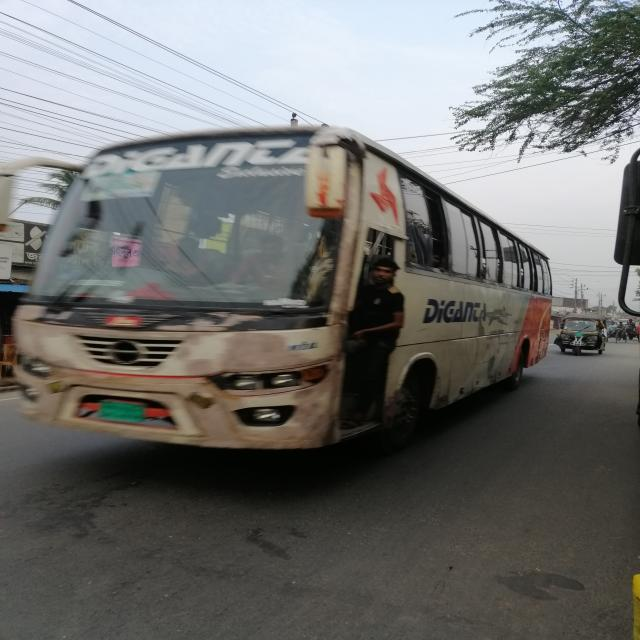Bus: (1, 108, 574, 462)
CNG: (536, 300, 628, 375)
